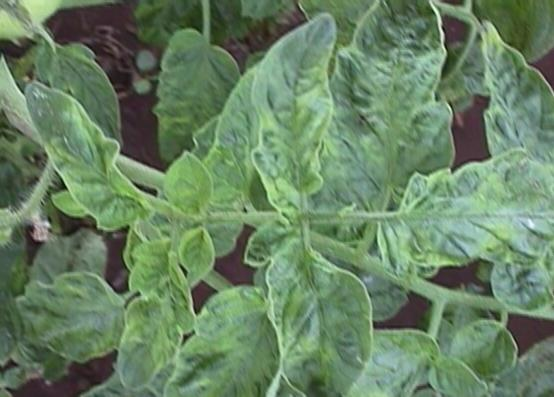Tomato leaf mosaic virus: (381, 151, 554, 270), (22, 74, 148, 228), (262, 231, 370, 397), (246, 9, 336, 208), (140, 279, 273, 397), (347, 0, 433, 174), (116, 238, 189, 393), (2, 272, 124, 358), (160, 149, 210, 220), (424, 357, 482, 397)
